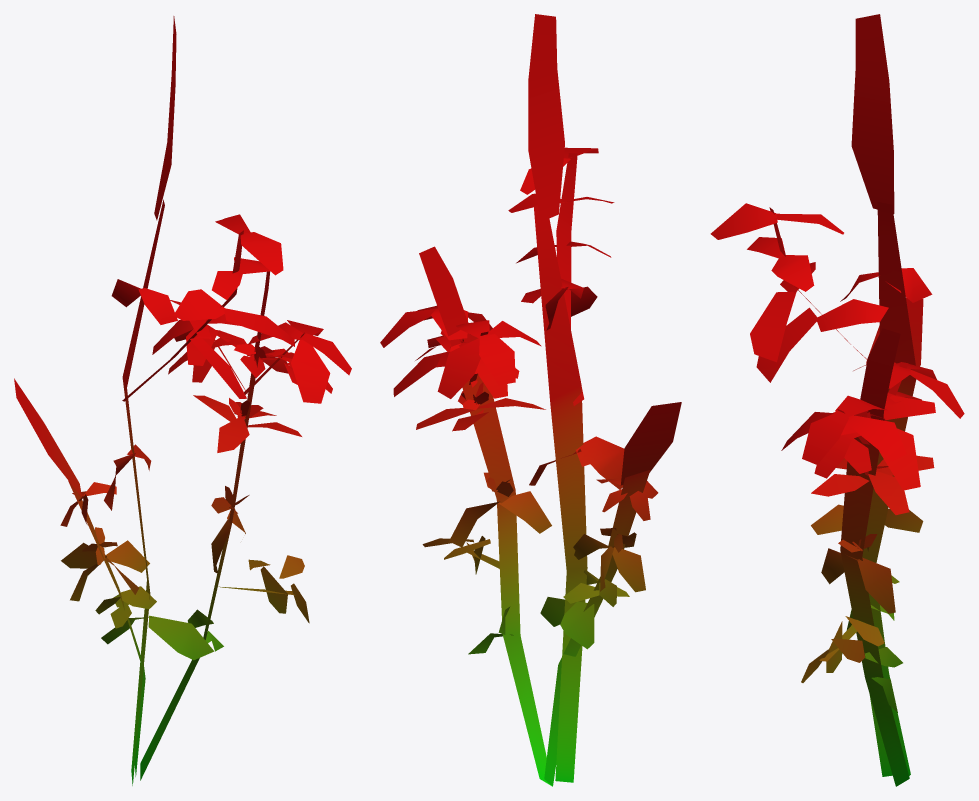
File: Var3_LOD2.fbx
The picture shows the model from 3 angles, left to right: view 1: azimuth 30°, elevation 25°; view 2: azimuth 150°, elevation 25°; view 3: azimuth 270°, elevation 25°; orthographic projection. The views are drawn at different scales.
Parts seen in each view (by area): view 1: _3b22_Var3_LOD2; view 2: _3b22_Var3_LOD2; view 3: _3b22_Var3_LOD2.
Boxes of the visible parts, x1=… form: _3b22_Var3_LOD2: x1=14, y1=16, x2=351, y2=785; _3b22_Var3_LOD2: x1=380, y1=14, x2=681, y2=786; _3b22_Var3_LOD2: x1=710, y1=14, x2=964, y2=786.
Bounding box in the file's own units: 27.14 × 65.7 × 19.26.
